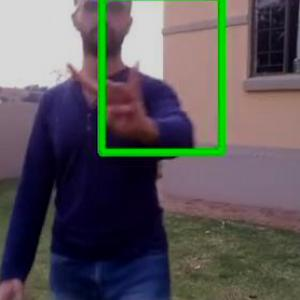takeoff-hand: (66, 56, 148, 145)
